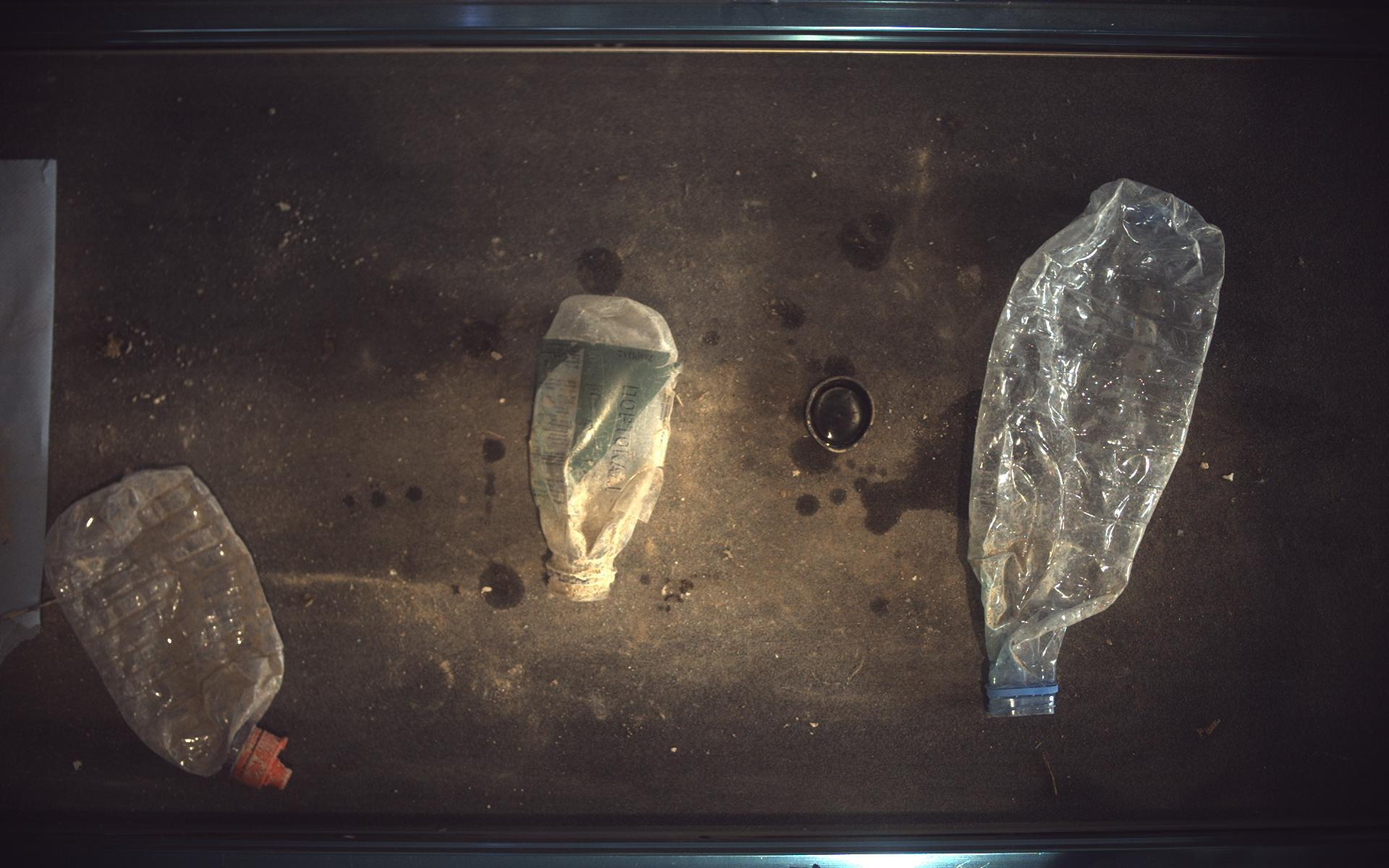general_w: (971, 178, 1227, 717), (530, 294, 682, 602)
